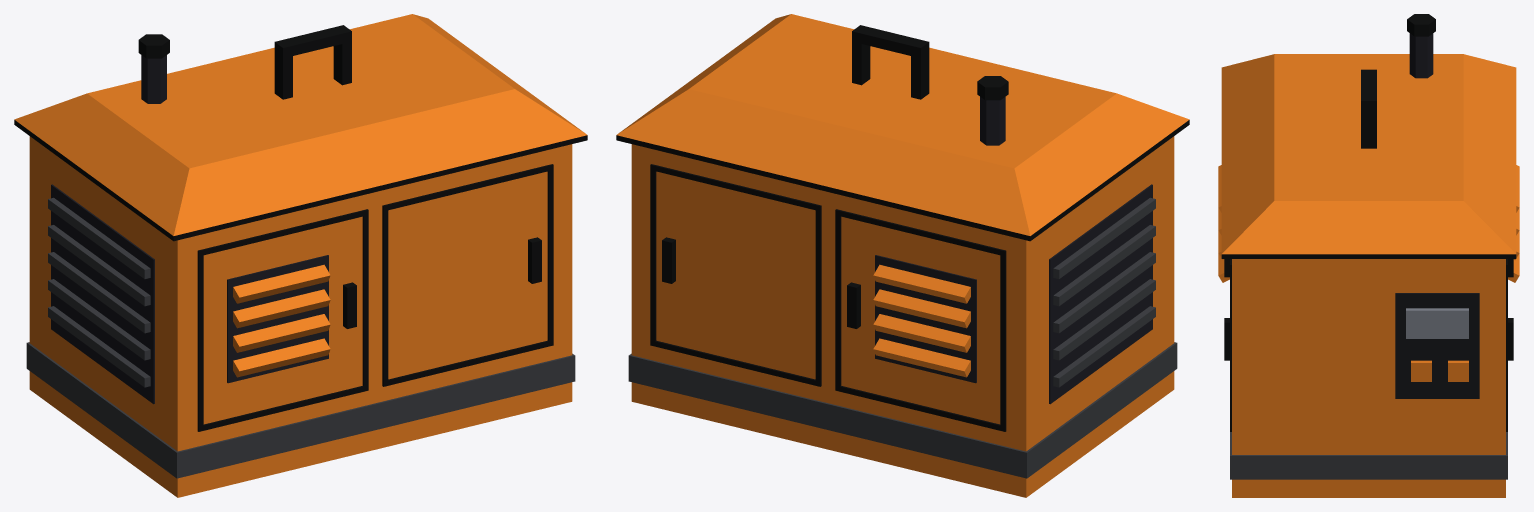
Rendered from Generator.fbx.
3 renders of one model, left to right at view 1: azimuth 30°, elevation 25°; view 2: azimuth 150°, elevation 25°; view 3: azimuth 270°, elevation 25°, orthographic. The views are drawn at different scales.
Visible parts, largest first — view 1: Generator_Festival_ED7E1D, Generator_Festival_3A3C40, Generator_Festival_090A0B, Generator_Festival_1B1B22; view 2: Generator_Festival_ED7E1D, Generator_Festival_3A3C40, Generator_Festival_090A0B, Generator_Festival_1B1B22; view 3: Generator_Festival_ED7E1D, Generator_Festival_3A3C40, Generator_Festival_151619, Generator_Festival_090A0B, Generator_Festival_7D828C, Generator_Festival_1B1B22.
Boxes of the visible parts, x1,y1,x2,y2 form: Generator_Festival_ED7E1D: (14, 14, 587, 497); Generator_Festival_3A3C40: (26, 197, 575, 478); Generator_Festival_090A0B: (14, 25, 587, 431); Generator_Festival_1B1B22: (51, 55, 328, 404); Generator_Festival_ED7E1D: (616, 14, 1189, 497); Generator_Festival_3A3C40: (628, 197, 1177, 478); Generator_Festival_090A0B: (616, 25, 1189, 431); Generator_Festival_1B1B22: (875, 97, 1152, 404); Generator_Festival_ED7E1D: (1218, 54, 1519, 497); Generator_Festival_3A3C40: (1230, 432, 1507, 479); Generator_Festival_151619: (1395, 293, 1479, 398); Generator_Festival_090A0B: (1221, 14, 1516, 431); Generator_Festival_7D828C: (1406, 308, 1468, 338); Generator_Festival_1B1B22: (1409, 33, 1433, 78).
Bounding box in the file's own units: 1.68 × 1.41 × 1.14.
